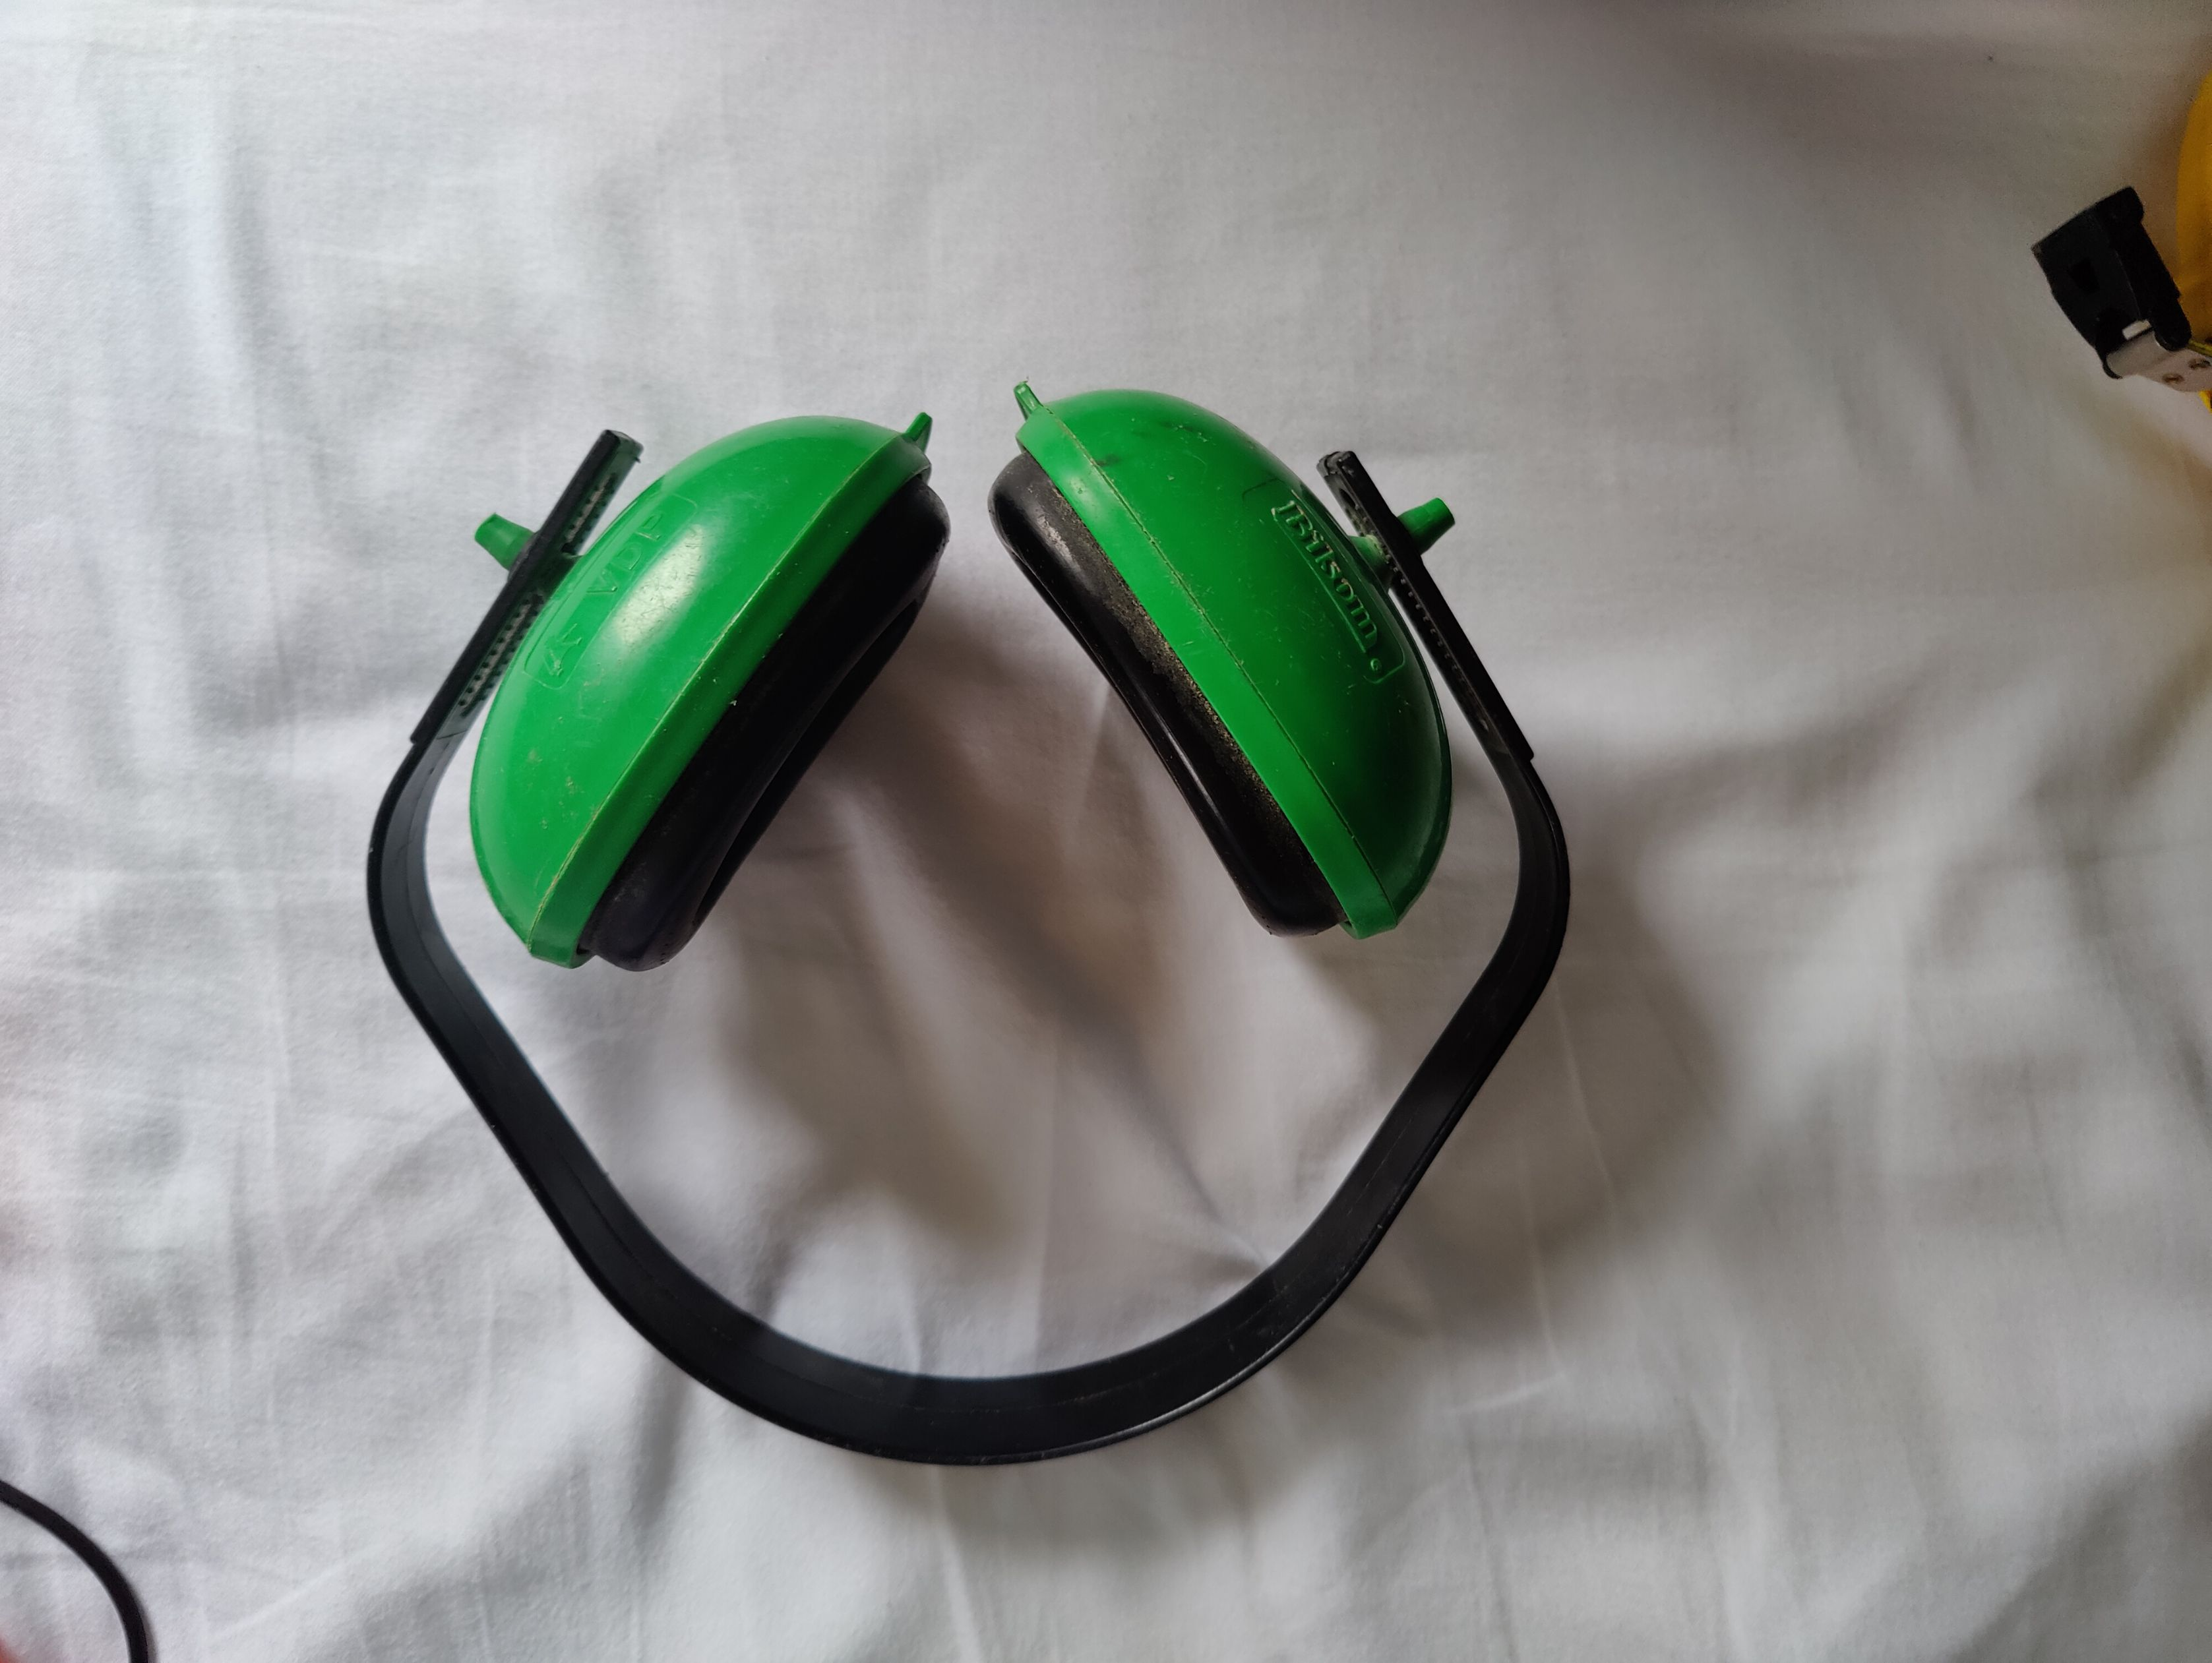headphones: (363, 381, 1571, 1466)
